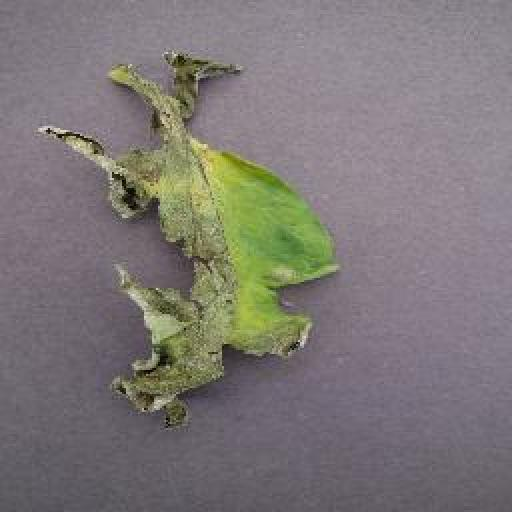disease_tomato: (42, 52, 342, 433)
